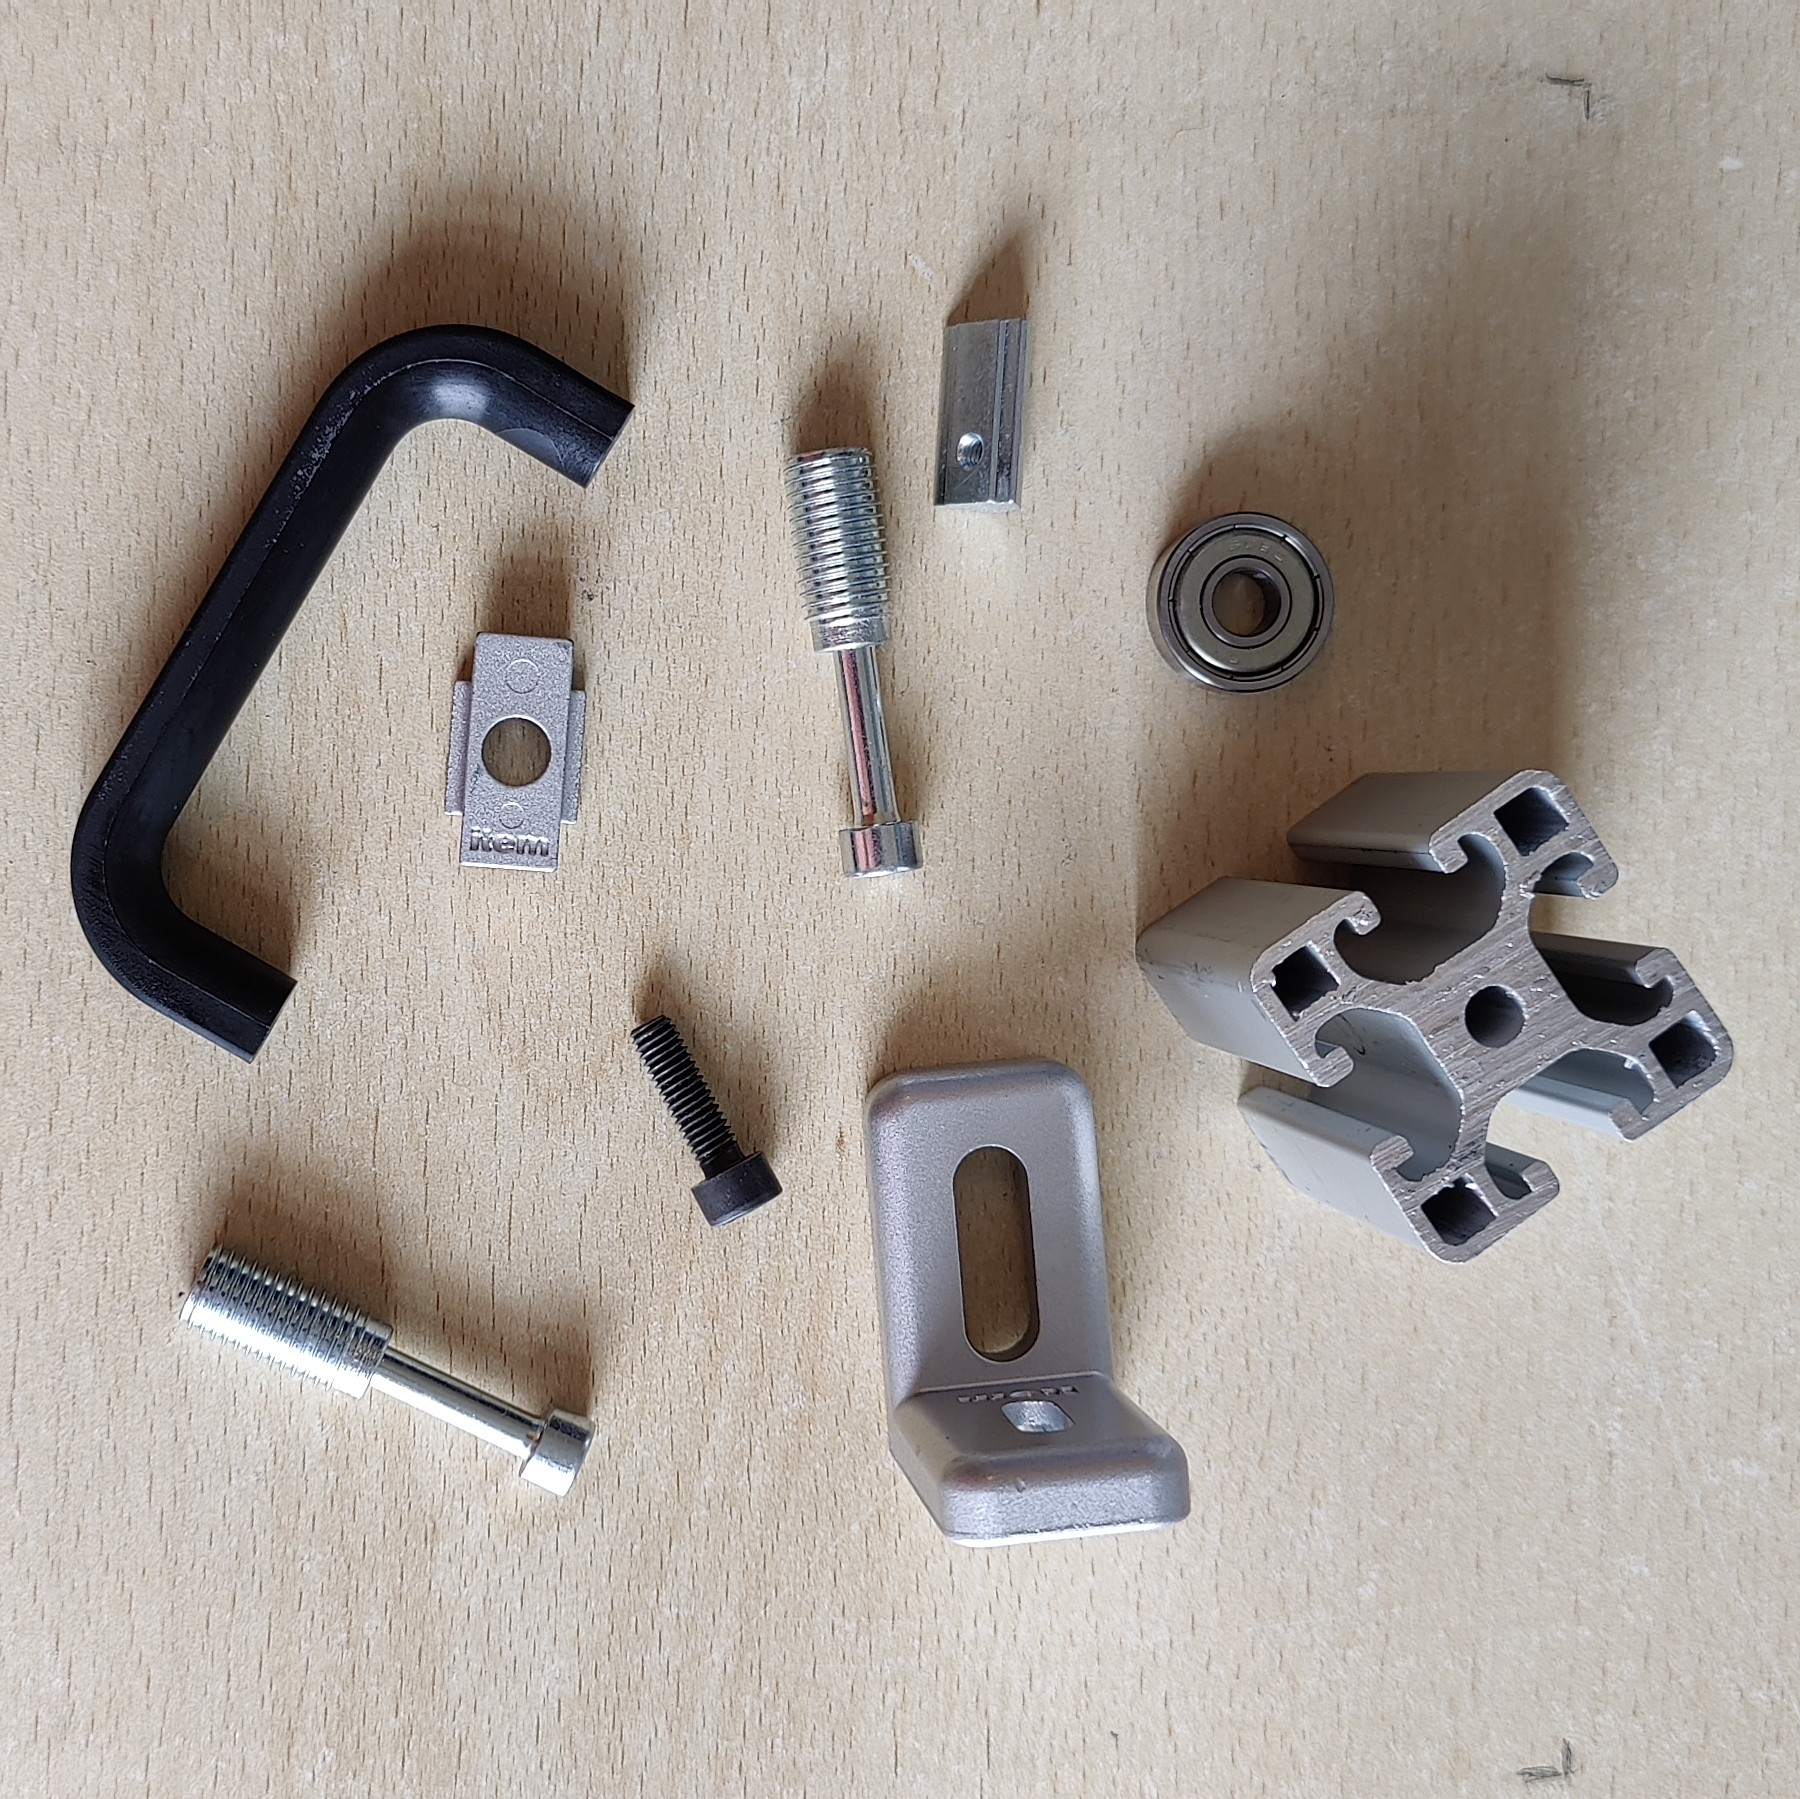Aluminium Extension: (1133, 764, 1737, 1269)
Ball Bearing: (1145, 509, 1337, 697)
Multiwinkel: (858, 1056, 1192, 1552)
Pull Handle: (68, 320, 641, 1068)
Shoulder Socket Head Cap Screw: (173, 1241, 598, 1502), (781, 443, 926, 883)
Socket Head Cap Screw: (624, 1008, 786, 1232)
T Nut Square: (441, 629, 591, 880)
T Spring Nut: (930, 311, 1038, 516)
